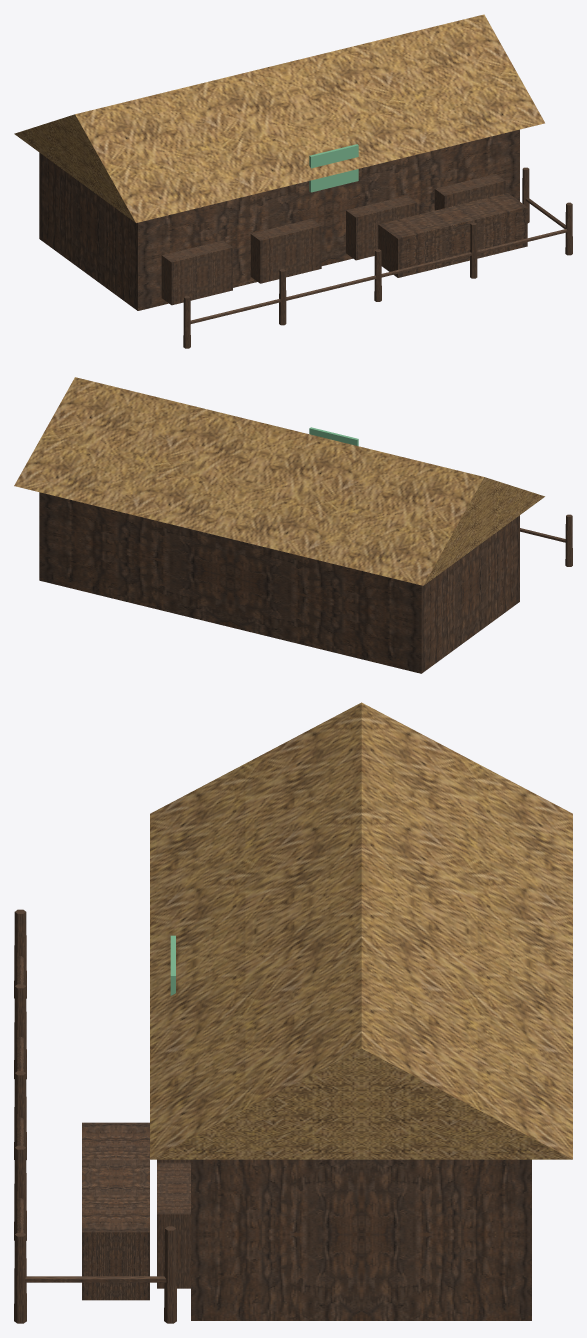
File: edificio-b_017-e0-BhbV_yLh.glb
3 views of the same model, one above another, from view 1: azimuth 30°, elevation 25°; view 2: azimuth 150°, elevation 25°; view 3: azimuth 270°, elevation 25° (orthographic). The views are drawn at different scales.
Visible parts, largest first — view 1: edificio-b_017-e0_detalles, edificio-b_017-e0_envolvente, edificio-b_017-e0_team_color; view 2: edificio-b_017-e0_detalles, edificio-b_017-e0_envolvente, edificio-b_017-e0_team_color; view 3: edificio-b_017-e0_detalles, edificio-b_017-e0_envolvente.
Part boxes in pixels (x1,y1,x2,y2): edificio-b_017-e0_detalles: [14, 14, 544, 305]; edificio-b_017-e0_envolvente: [39, 129, 572, 348]; edificio-b_017-e0_team_color: [309, 144, 358, 192]; edificio-b_017-e0_detalles: [14, 377, 544, 585]; edificio-b_017-e0_envolvente: [39, 492, 572, 673]; edificio-b_017-e0_team_color: [309, 427, 358, 446]; edificio-b_017-e0_detalles: [82, 702, 572, 1300]; edificio-b_017-e0_envolvente: [14, 909, 531, 1323].
Bounding box in the file's own units: 60 × 23 × 40.98.
3 materials, 2 textured.
